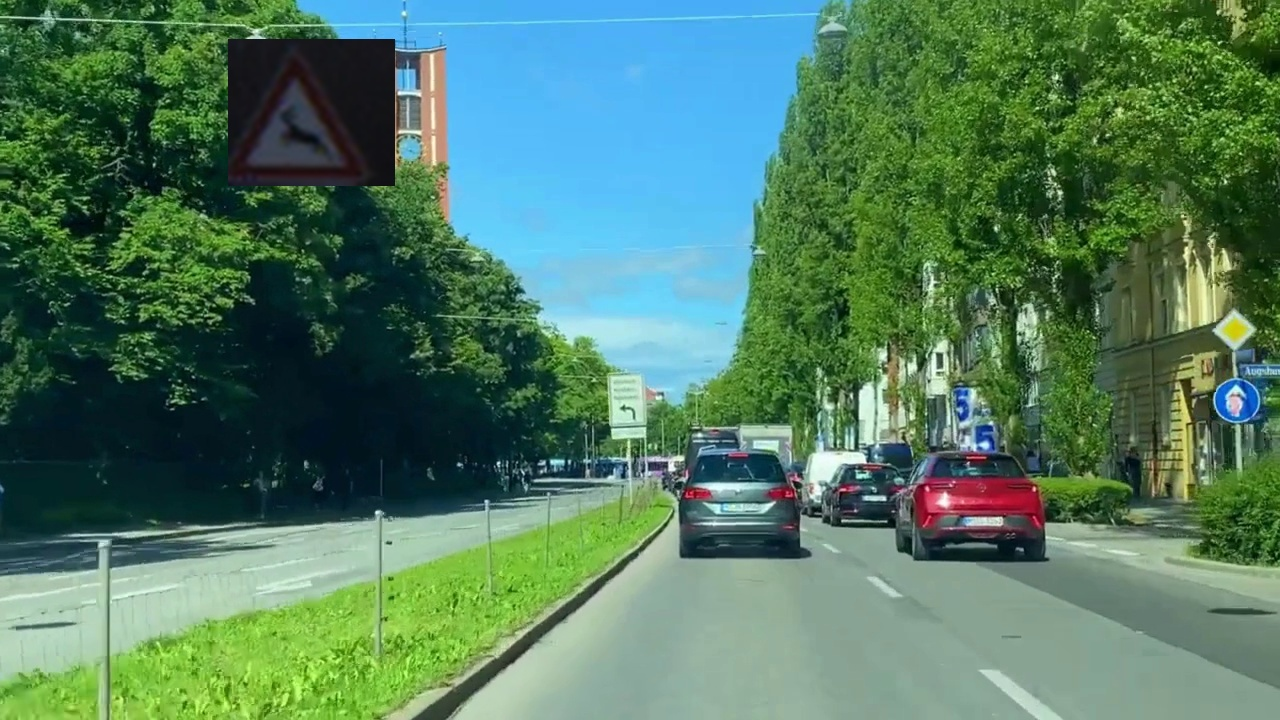Wild animals: (228, 39, 395, 186)
